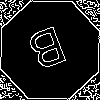B: (25, 25, 73, 80)
